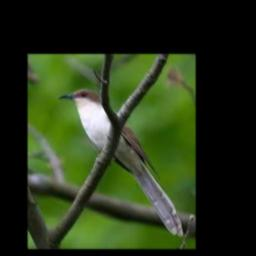Cuckoo: (58, 89, 184, 236)
